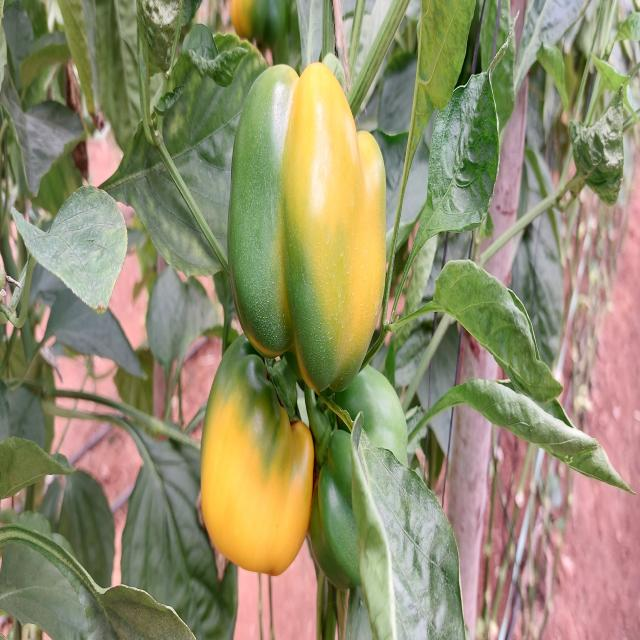GreenishYellow--Can-be-Harvested: (222, 57, 397, 398), (207, 352, 308, 588)
